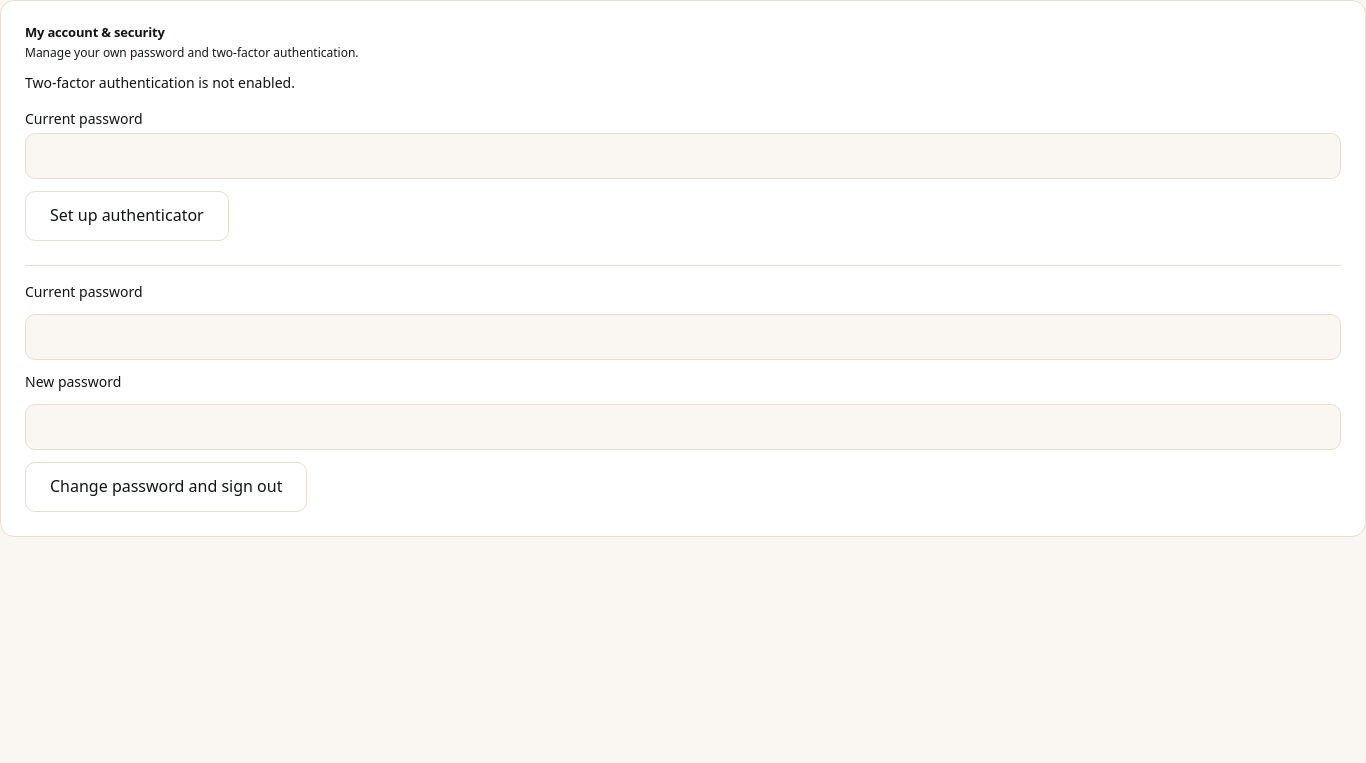
account and invitation workflows › enrolls and confirms TOTP for the current user, showing recovery codes only in memory
The width and height of the screenshot is (1366, 763).
Submit the form named "My account & security", box [25,109,1341,241]
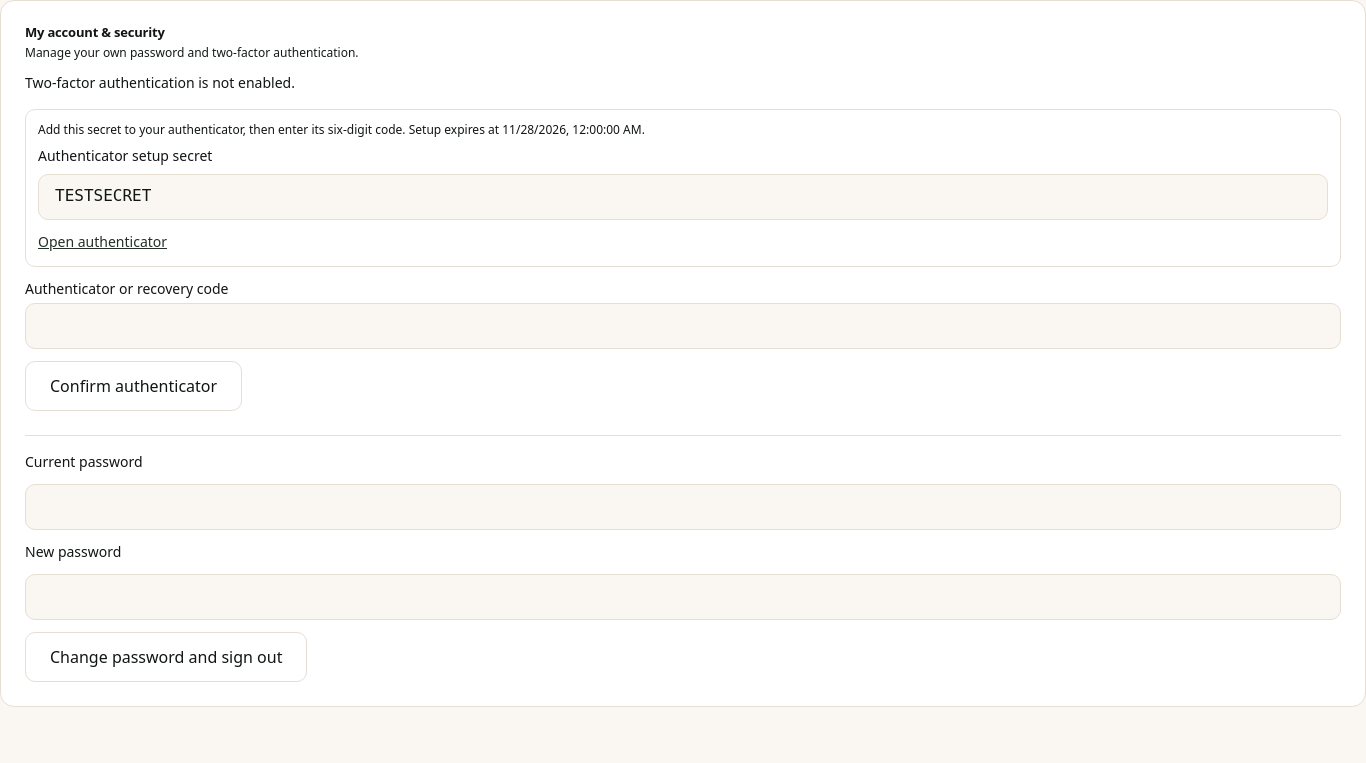
Expected: the field labelled "Authenticator setup secret" holds "TESTSECRET", [38,174,1328,220]
Type "123456" into the field labelled "Authenticator or recovery code" at (683, 326), box [25,303,1341,349]
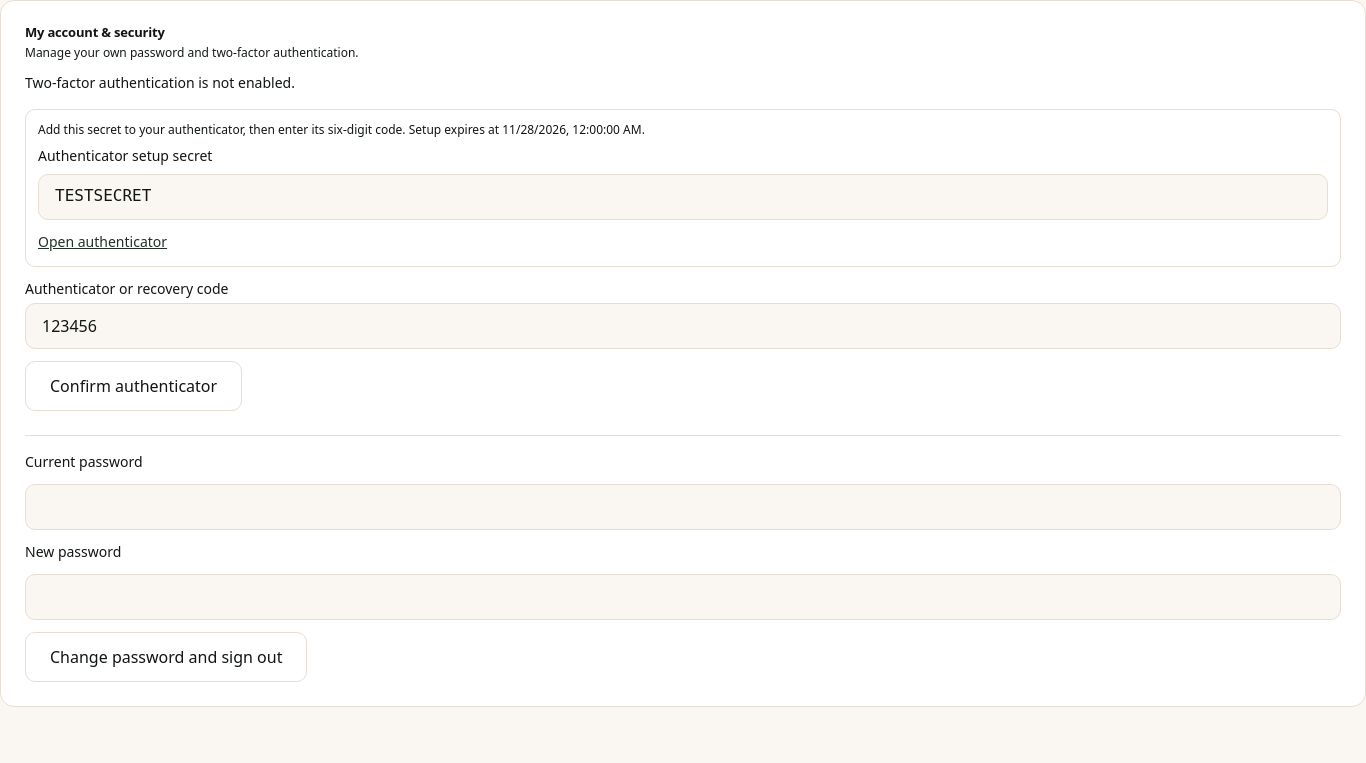
Submit the form named "My account & security", box [25,109,1341,411]
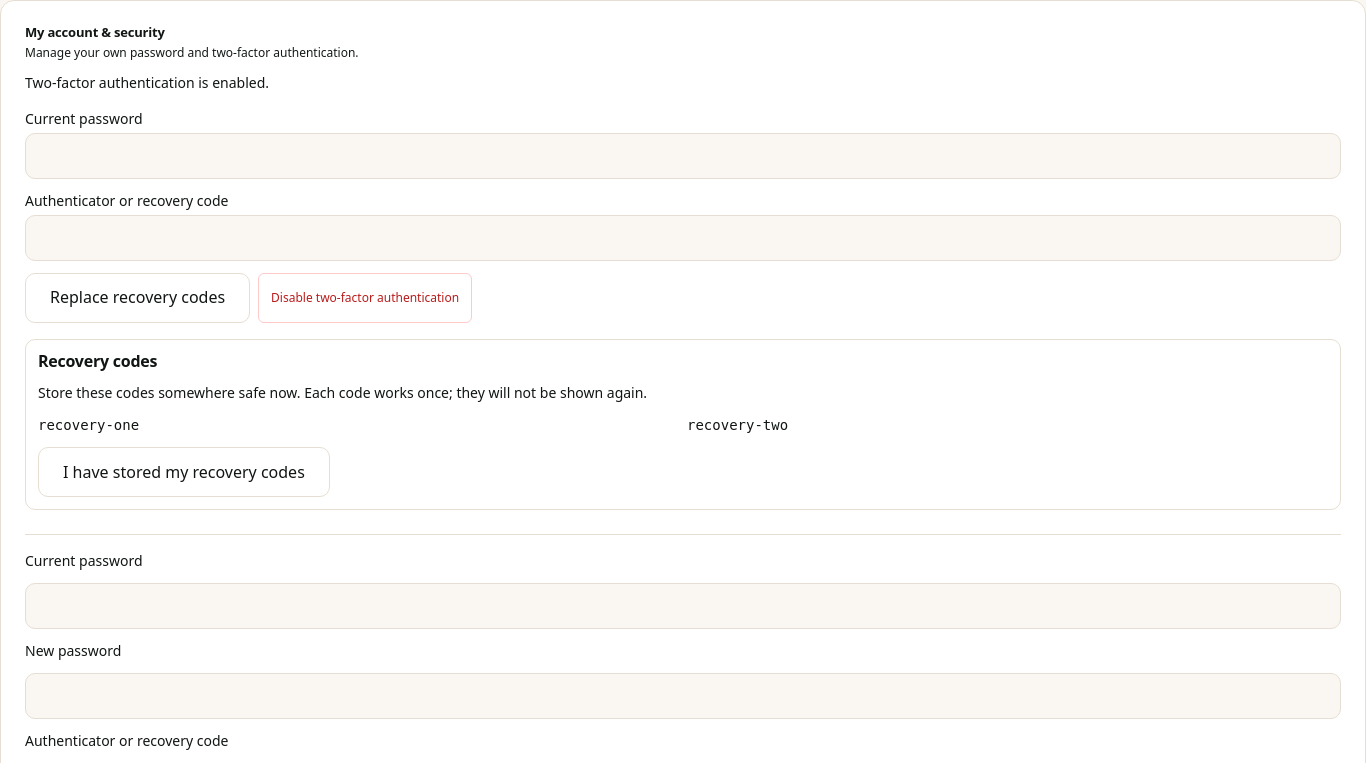
Expected: the list item "recovery-one" is shown, [38,417,139,433]
Expected: the label labelled "Authenticator setup secret" is gone
Click the button "I have stored my recovery codes" at (184, 472), box [38,447,330,497]
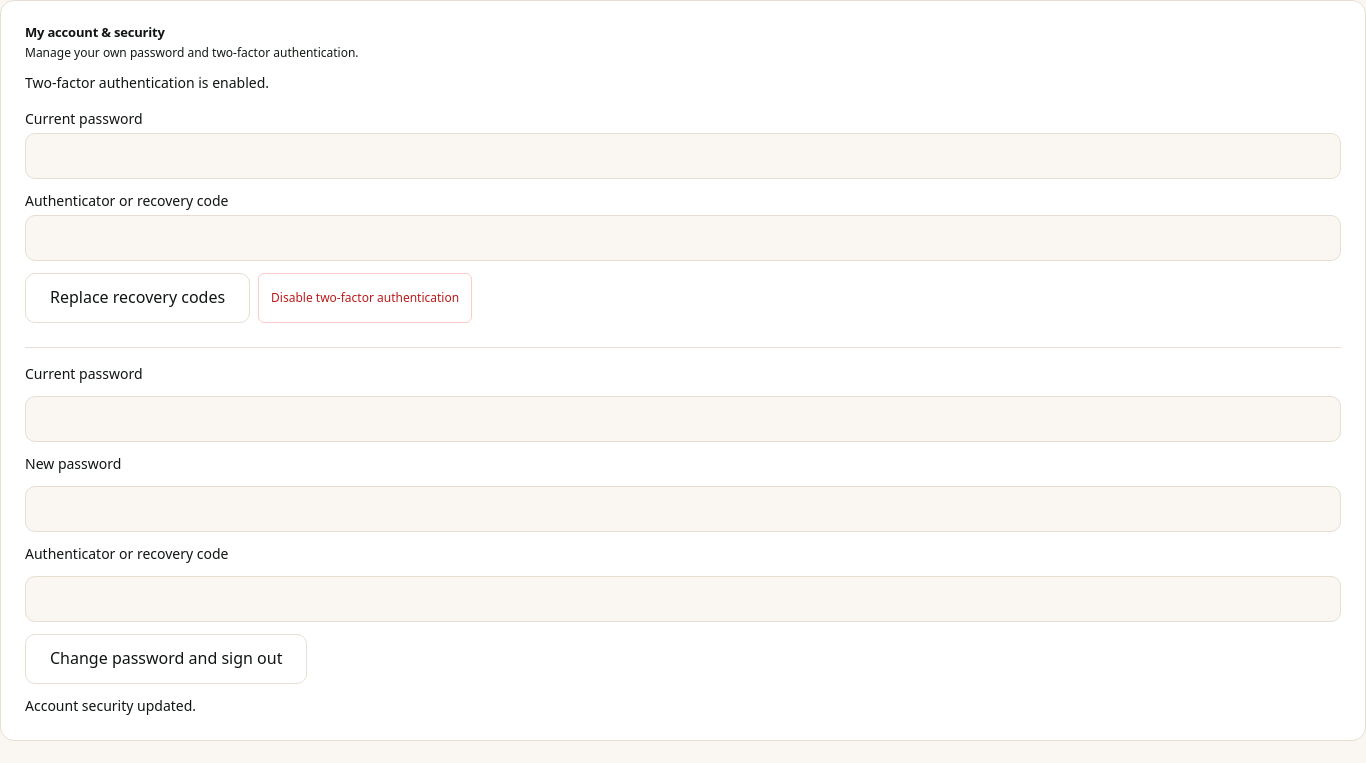
Expected: the list item "recovery-one" is gone
